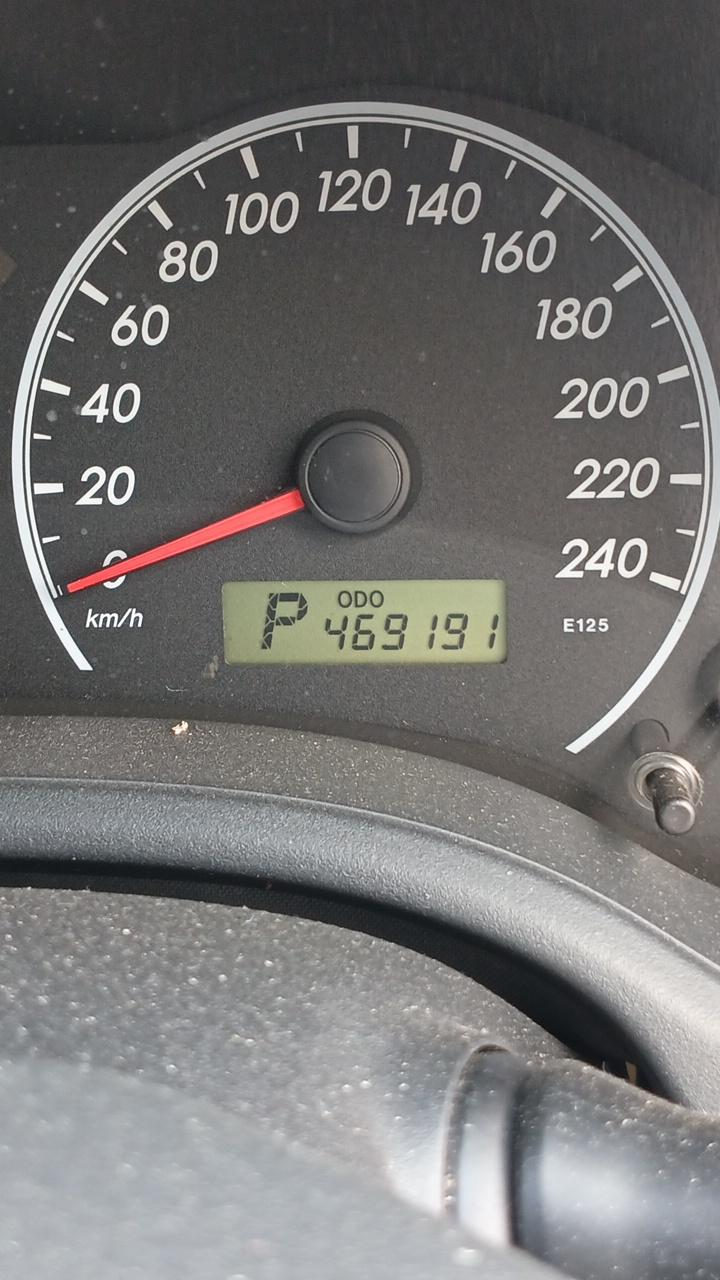1: (426, 614, 439, 651), (487, 614, 500, 649)
4: (324, 614, 349, 652)
6: (351, 613, 376, 651)
9: (440, 613, 470, 651), (380, 613, 409, 651)
X: (258, 590, 309, 652), (337, 590, 353, 608), (369, 590, 384, 608), (354, 590, 368, 608)
odometer: (220, 580, 509, 667)
